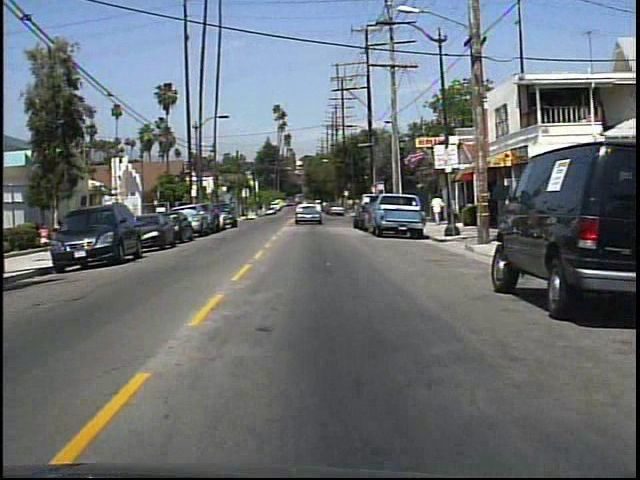person: (429, 190, 448, 228), (40, 222, 56, 250)
